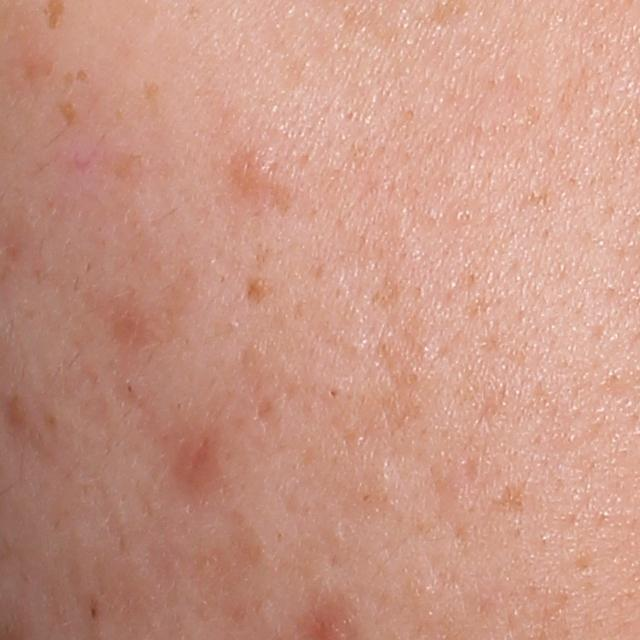comedo: (324, 384, 344, 402), (123, 382, 135, 395)
melasma: (56, 98, 78, 131), (74, 68, 90, 85)
papule: (171, 428, 228, 494), (227, 142, 270, 194)
